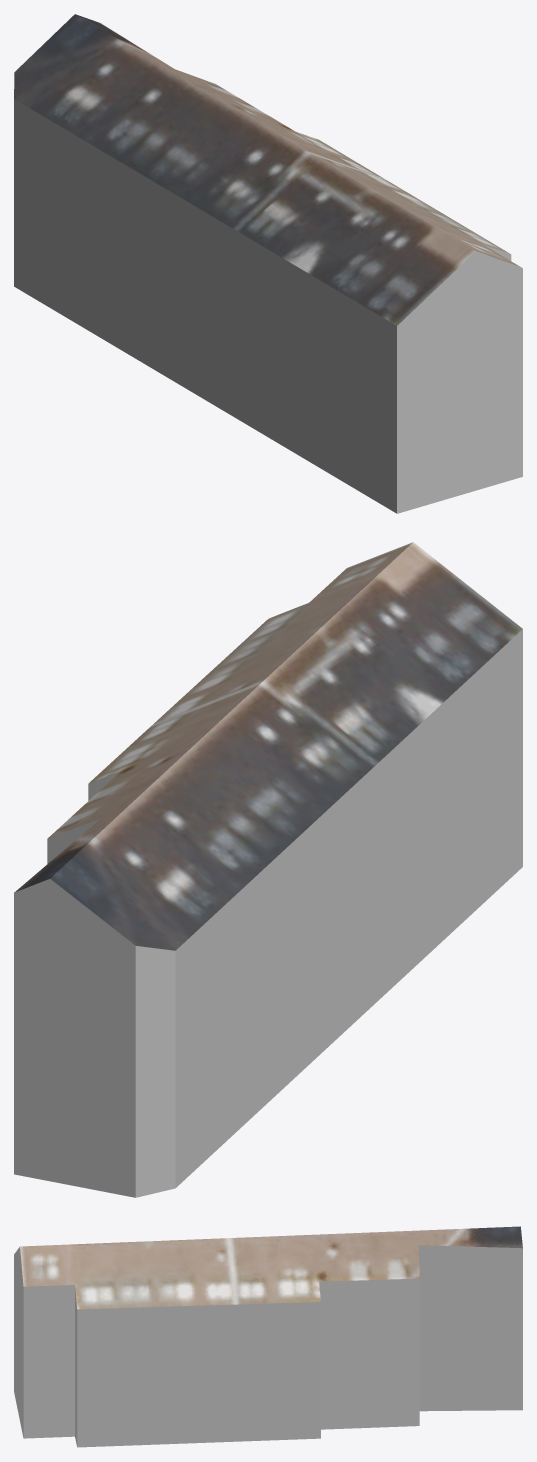
File: DEBW_0010007TxiP.gltf
The picture shows the model from 3 angles, top to bottom: view 1: azimuth 30°, elevation 25°; view 2: azimuth 150°, elevation 25°; view 3: azimuth 270°, elevation 25°; orthographic projection. The views are drawn at different scales.
Parts seen in each view (by area): view 1: Z_UP; view 2: Z_UP; view 3: Z_UP.
Boxes of the visible parts, x1,y1,x2,y2 form: Z_UP: (14,14,522,513); Z_UP: (14,542,522,1197); Z_UP: (14,1226,522,1447).
Bounding box in the file's own units: 15.54 × 16.77 × 44.37.
Materials: 2 (1 with a texture image).
